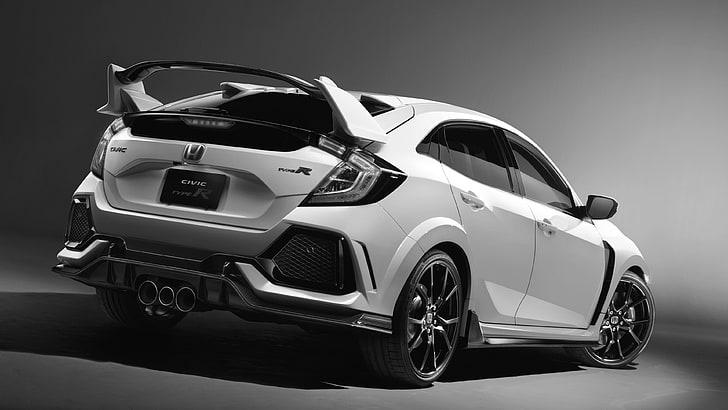Car boot: (101, 96, 350, 229)
Driver-s door - -F-R-: (493, 99, 607, 359)
Fender - -R-R-: (358, 100, 466, 263), (585, 211, 657, 345)
Passenger-s door - -R-R-: (425, 97, 537, 363)
Rear bumper: (49, 194, 425, 341)
Rear light - -L-: (90, 115, 127, 181)
Rear light - -R-: (299, 129, 405, 208)
Side bumper - -R-: (454, 308, 606, 361)
Side mirror - -R-: (567, 193, 620, 224)
